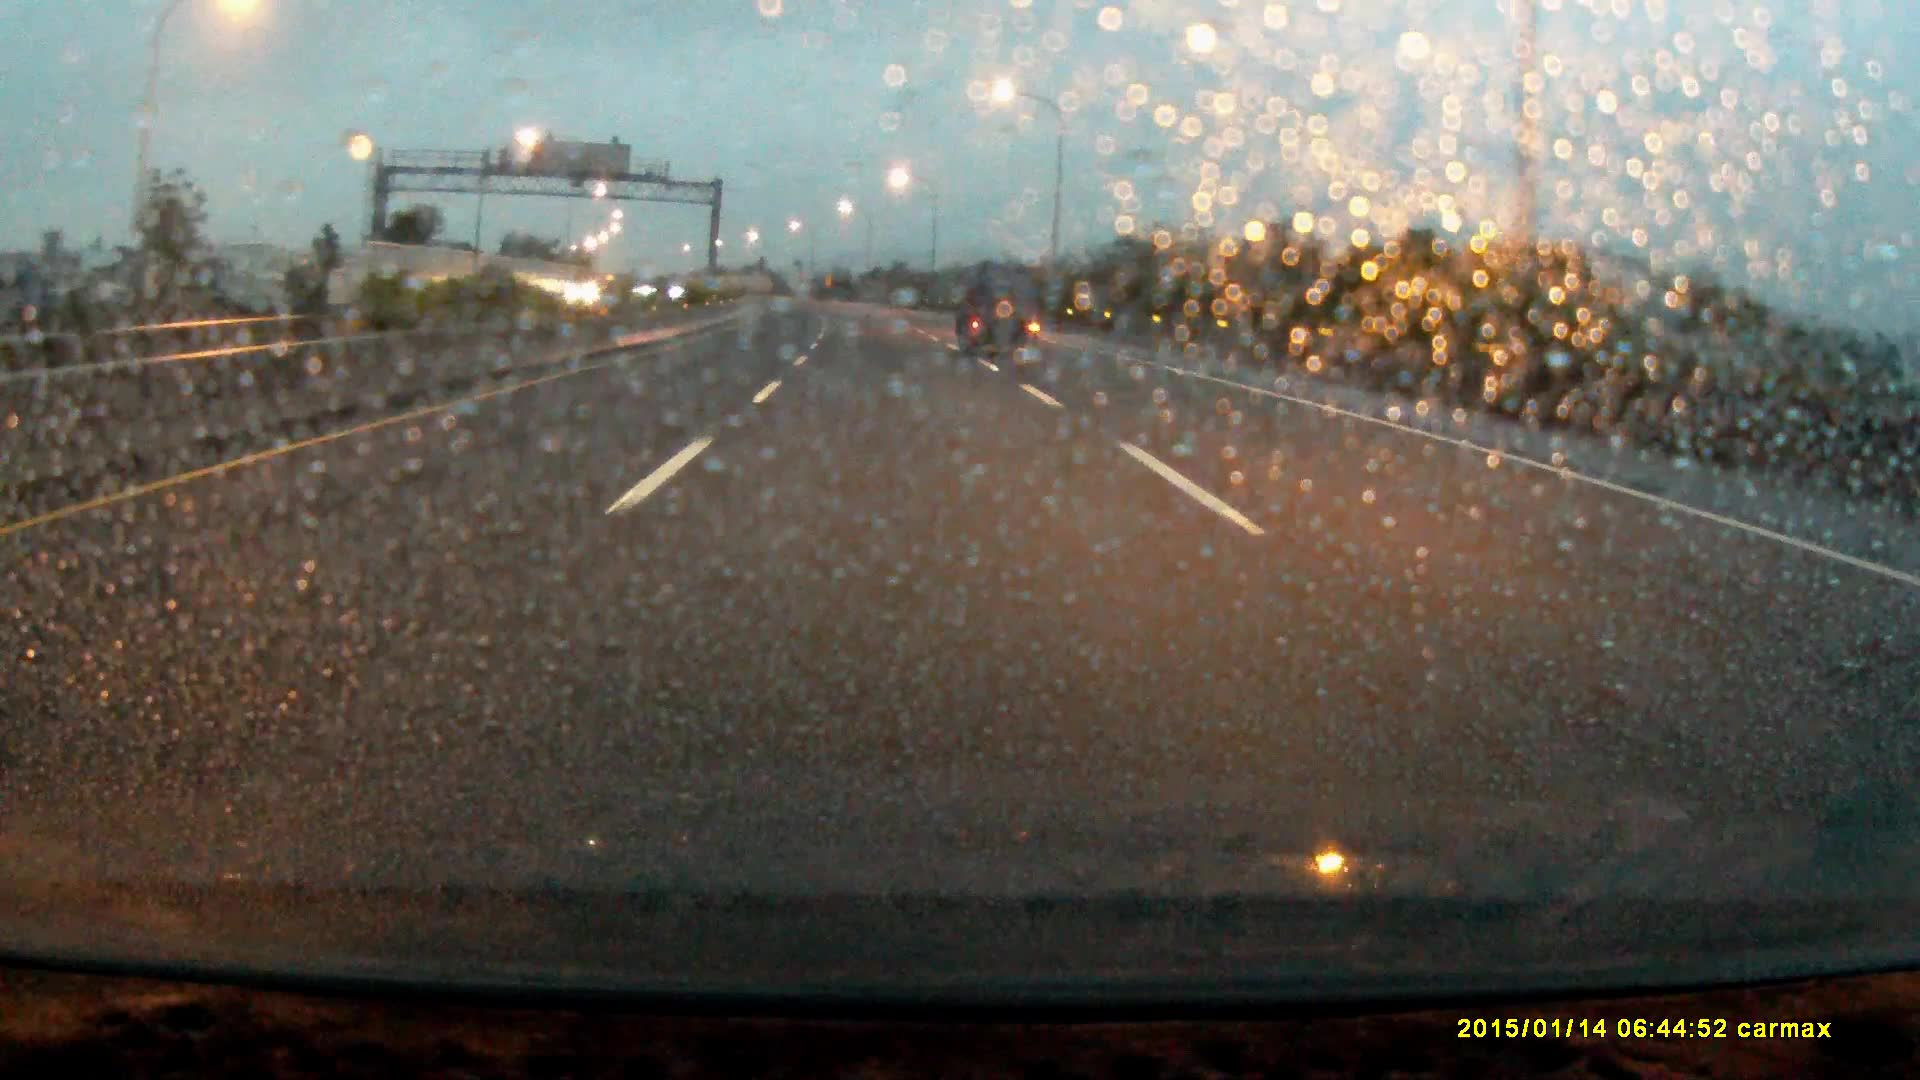vehicle: (957, 272, 1044, 361), (562, 273, 605, 306)
